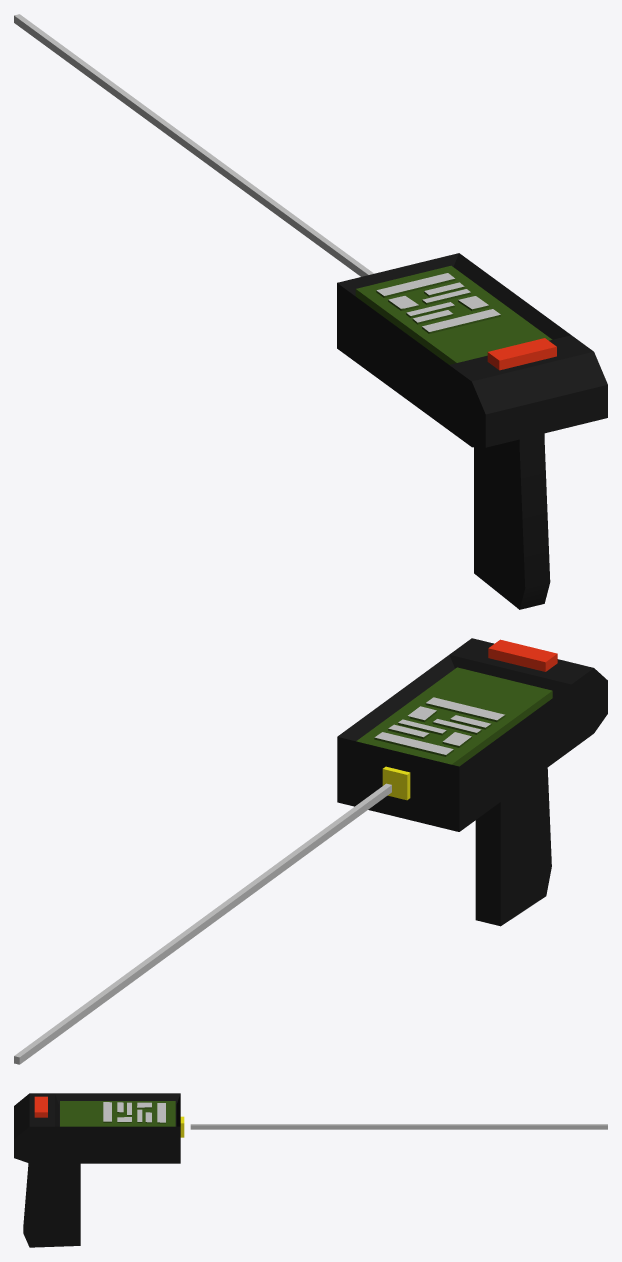
The model's file is _Scangun.fbx.
The picture shows the model from 3 angles, top to bottom: view 1: azimuth 30°, elevation 25°; view 2: azimuth 150°, elevation 25°; view 3: azimuth 270°, elevation 25°; orthographic projection. The views are drawn at different scales.
Parts seen in each view (by area): view 1: _Scan_Gun, Scan_Ray, Scan_Button; view 2: _Scan_Gun, Scan_Ray, Scan_Button; view 3: _Scan_Gun, Scan_Ray, Scan_Button.
Part boxes in pixels (x1,y1,x2,y2): _Scan_Gun: [337, 253, 607, 609]; Scan_Ray: [14, 14, 373, 276]; Scan_Button: [487, 338, 556, 370]; _Scan_Gun: [337, 638, 607, 926]; Scan_Ray: [14, 783, 391, 1064]; Scan_Button: [488, 639, 557, 671]; _Scan_Gun: [14, 1093, 184, 1247]; Scan_Ray: [190, 1124, 607, 1129]; Scan_Button: [34, 1096, 47, 1117].
Bounding box in the file's own units: 0.1445 × 0.2822 × 1.09.
